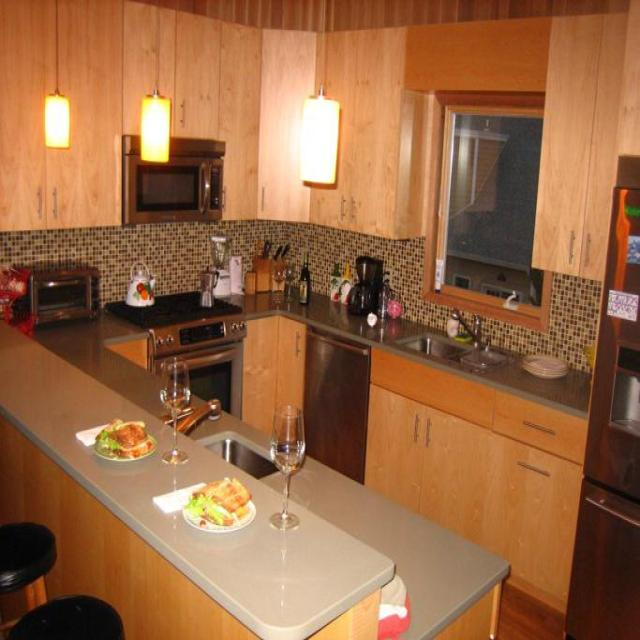cupboard: (530, 1, 638, 282), (0, 0, 122, 231)
faucet: (449, 307, 482, 348)
glass: (268, 402, 305, 530), (158, 357, 190, 465)
indoor-plant: (1, 1, 637, 638)
lamps: (299, 0, 340, 185), (139, 0, 171, 162), (44, 0, 70, 148)
shelf: (306, 24, 426, 240)
table: (0, 312, 510, 638)
window: (421, 92, 554, 332)
